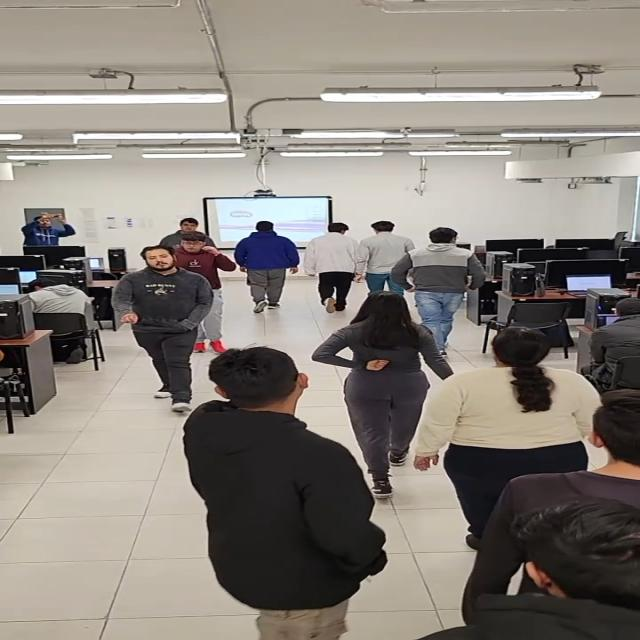Persona: (181, 346, 391, 640), (411, 326, 601, 548), (463, 387, 640, 625), (415, 495, 640, 640), (314, 292, 456, 498), (109, 245, 214, 412), (390, 227, 487, 358), (170, 231, 238, 356), (235, 218, 300, 314), (302, 222, 363, 313), (355, 220, 412, 296), (160, 218, 221, 256)
